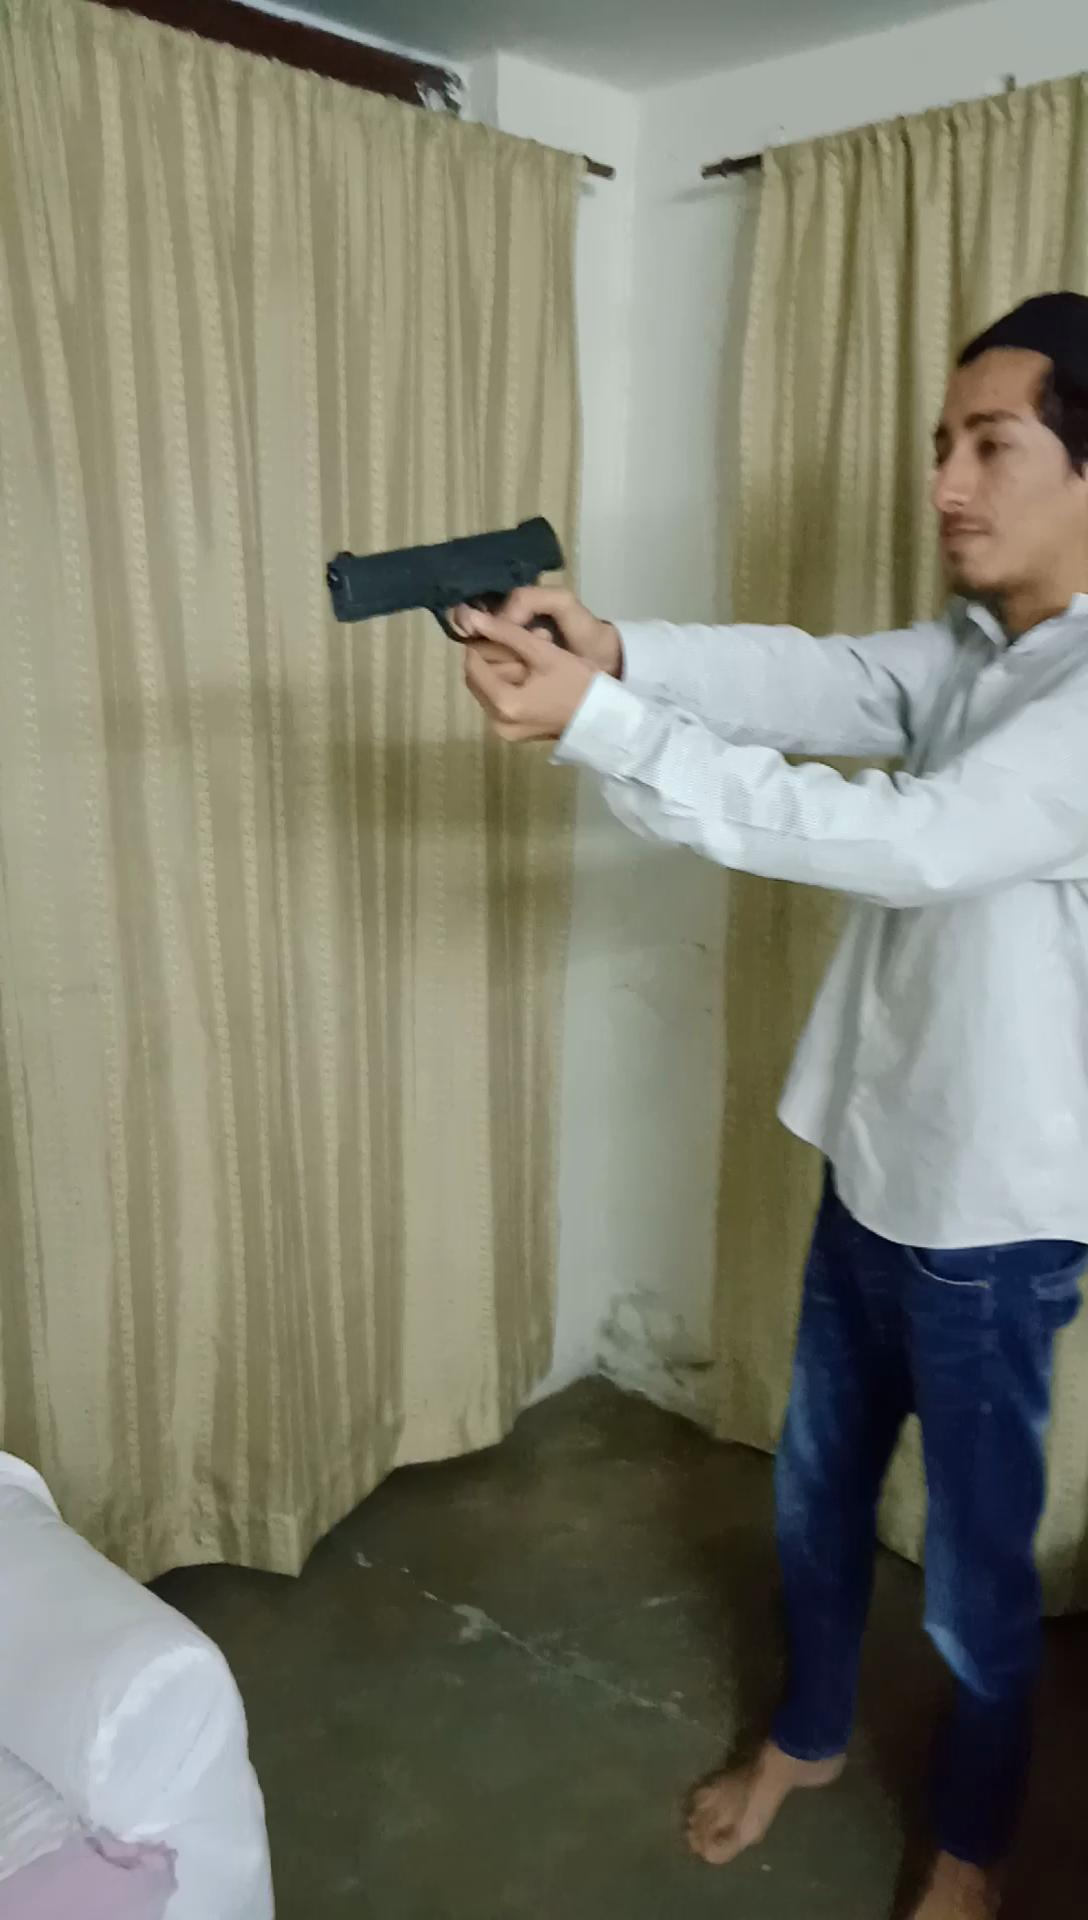criminal: (317, 286, 1088, 1920)
weapon: (317, 496, 601, 696)
